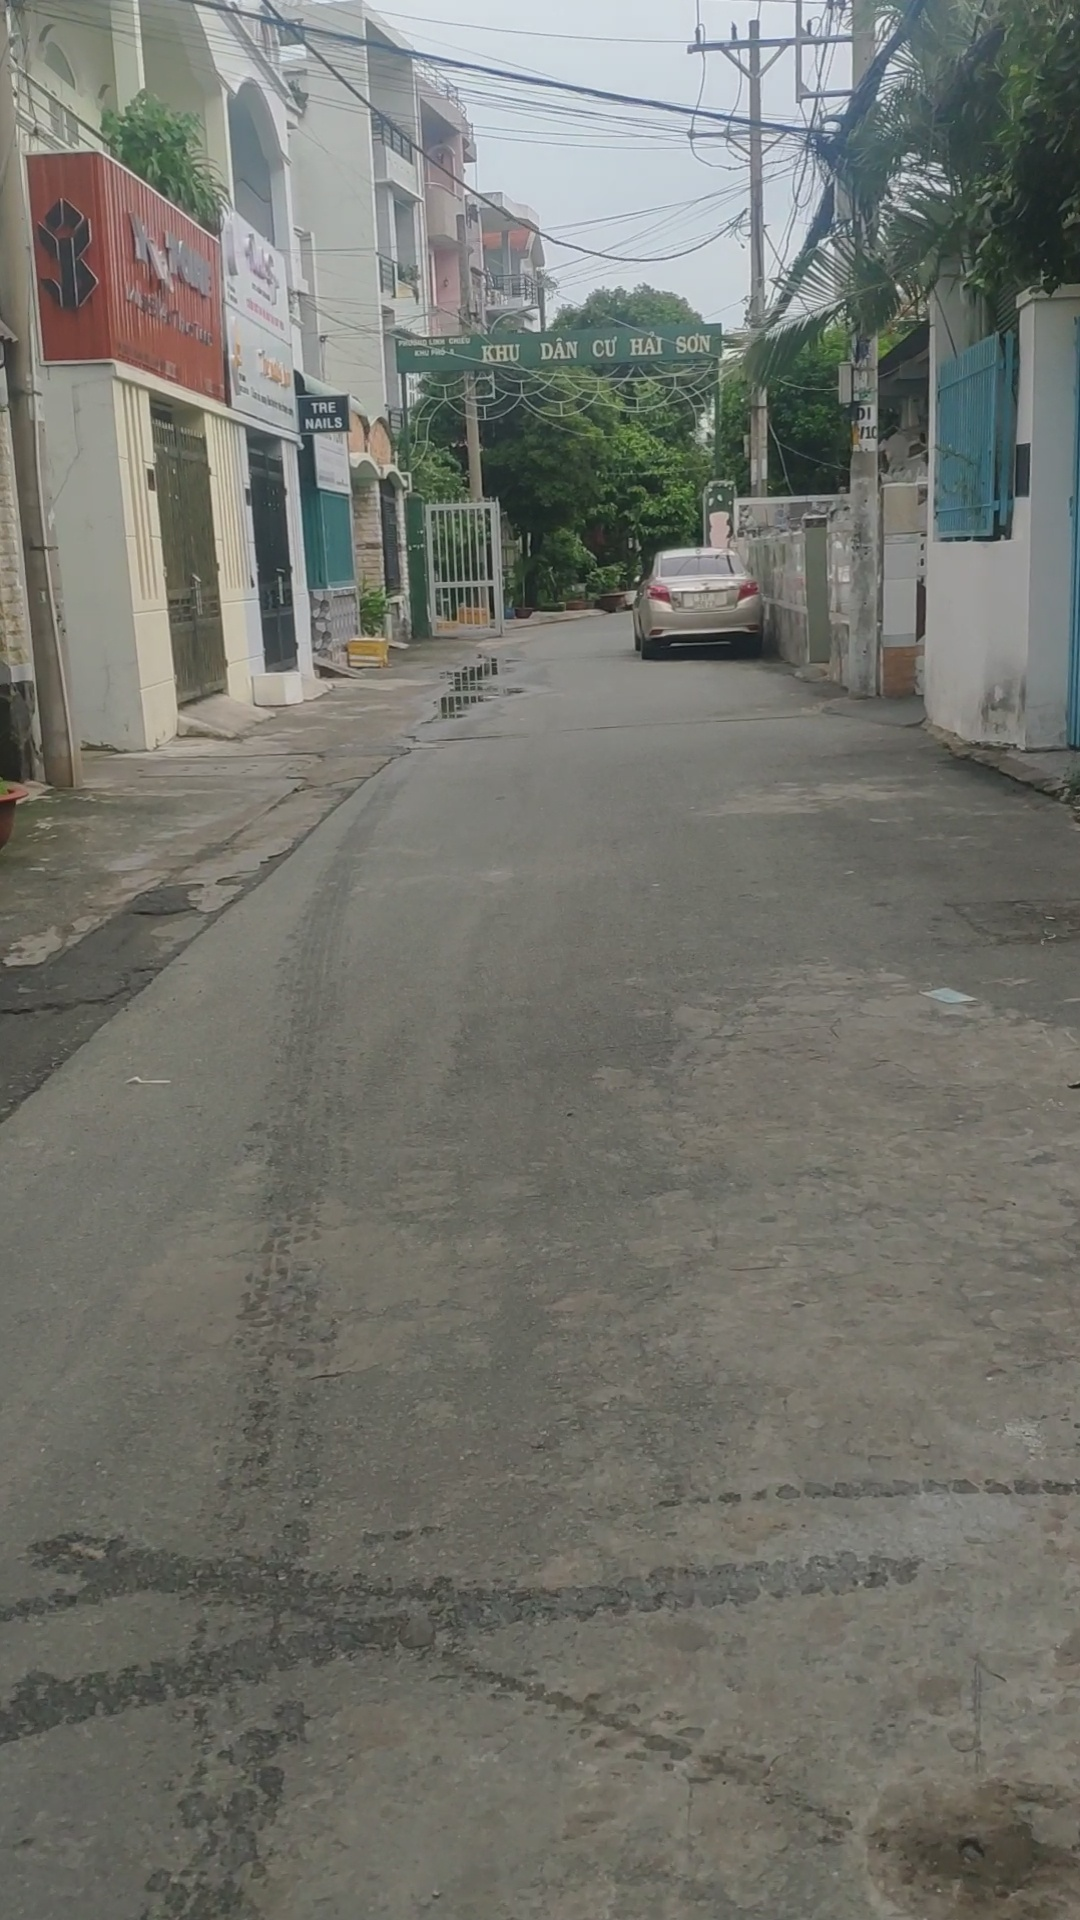hole: (825, 1754, 1080, 1920), (61, 899, 208, 973)
